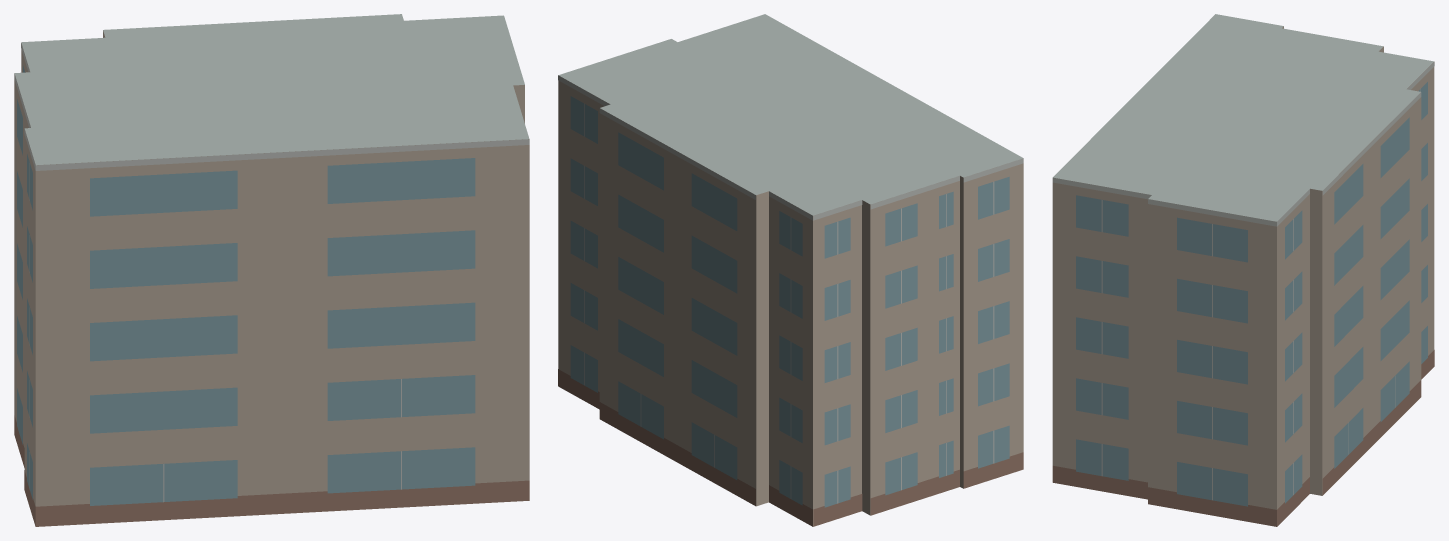
File: survey-upis-32653506.glb
The picture shows the model from 3 angles, left to right: view 1: azimuth 30°, elevation 25°; view 2: azimuth 150°, elevation 25°; view 3: azimuth 270°, elevation 25°; orthographic projection. The views are drawn at different scales.
Parts seen in each view (by area): view 1: survey-upis-32653506.tmp; view 2: survey-upis-32653506.tmp; view 3: survey-upis-32653506.tmp.
Boxes of the visible parts, x1=… form: survey-upis-32653506.tmp: x1=14, y1=14, x2=529, y2=526; survey-upis-32653506.tmp: x1=558, y1=14, x2=1023, y2=526; survey-upis-32653506.tmp: x1=1052, y1=14, x2=1434, y2=526.
Bounding box in the file's own units: 21.99 × 15.05 × 17.08.
